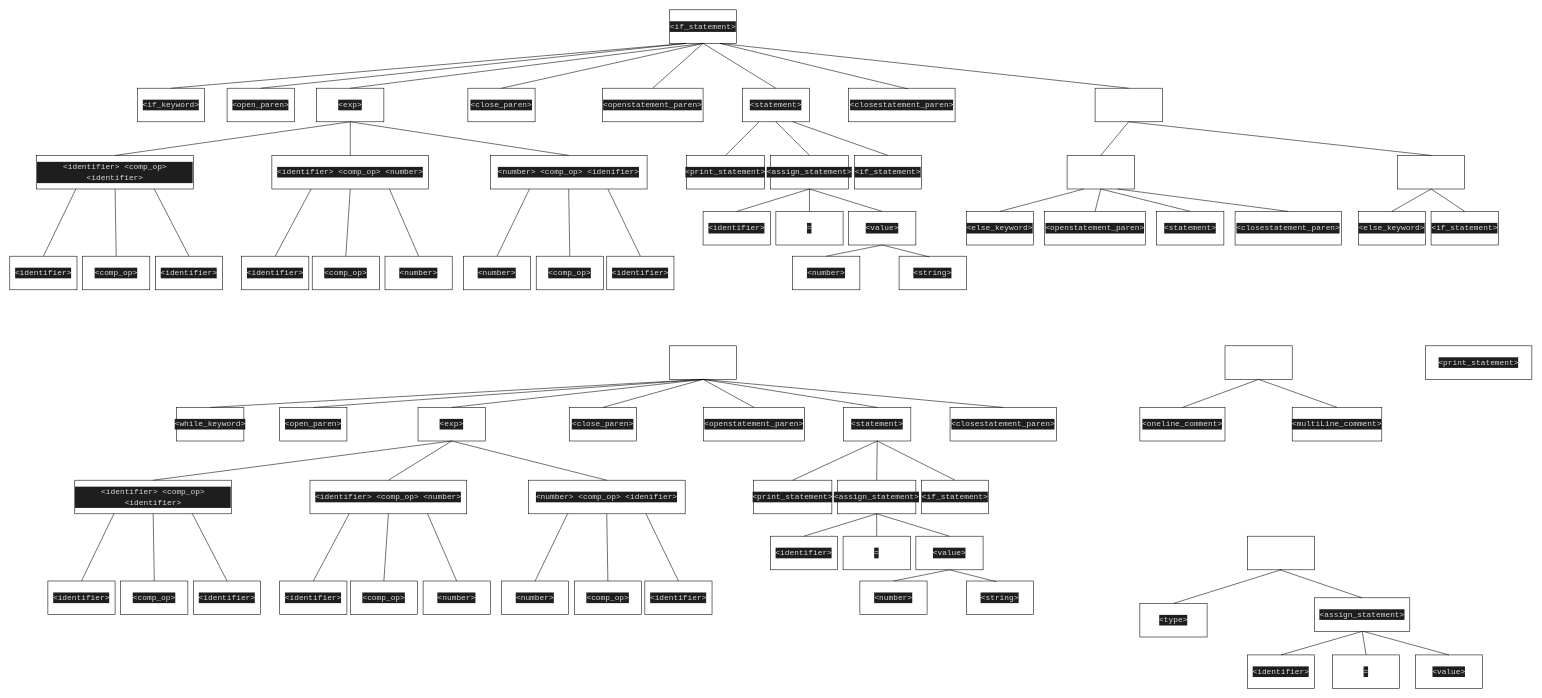
Image size: 1542x698. Some labels were removed from this diagram. Here are the shapes that lost their labels. From the top down, the box of each, then its label:
(1095, 88, 1162, 122): <else_option>
(1067, 155, 1134, 189): <else_clause>
(1397, 155, 1465, 189): <elseif_clause>
(669, 345, 737, 379): <while_loop>
(1224, 345, 1292, 379): <comment>
(1247, 536, 1315, 570): <variable>
